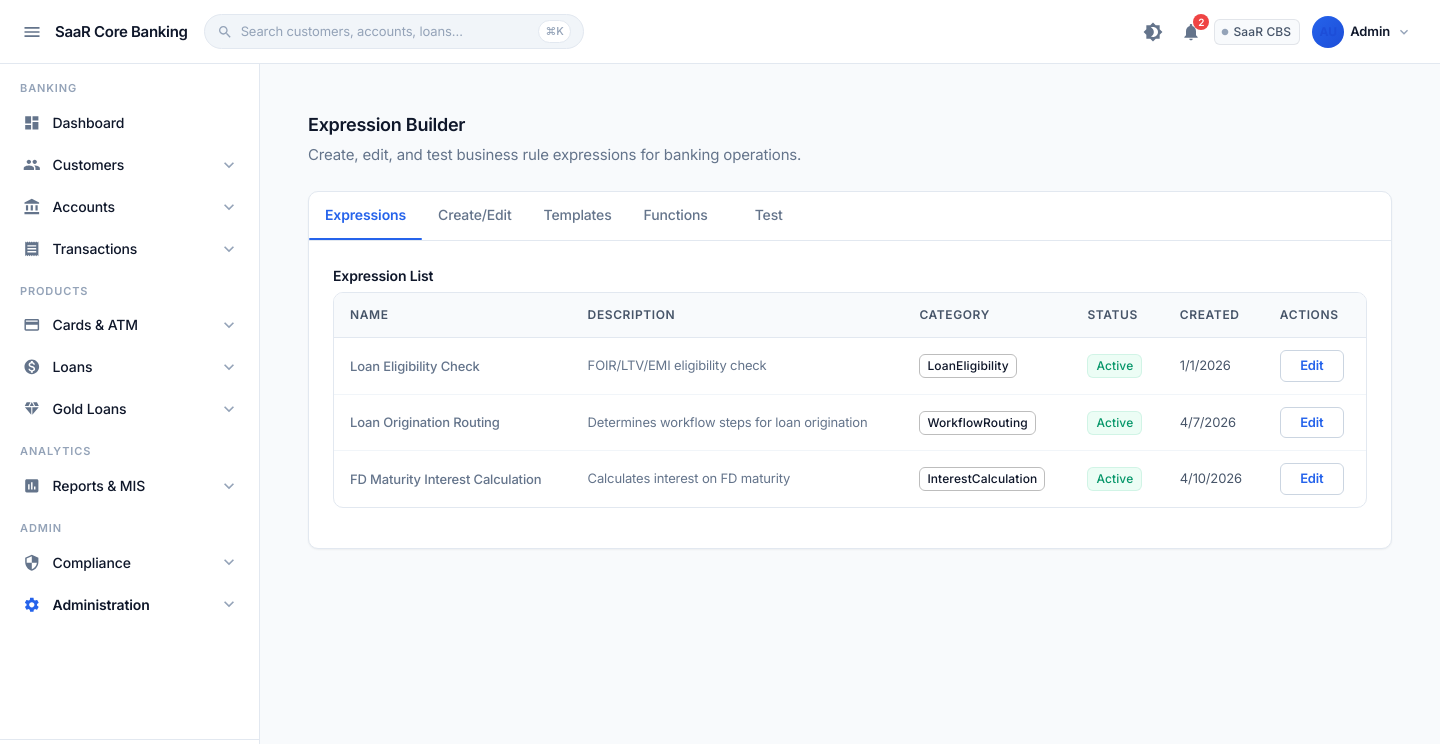
Test case: [REGRESSION] Expression Builder — Create Expression › create form has Name, Expression, and Category fields
Click the tab "Create/Edit": (475, 215) [422, 193, 528, 237]
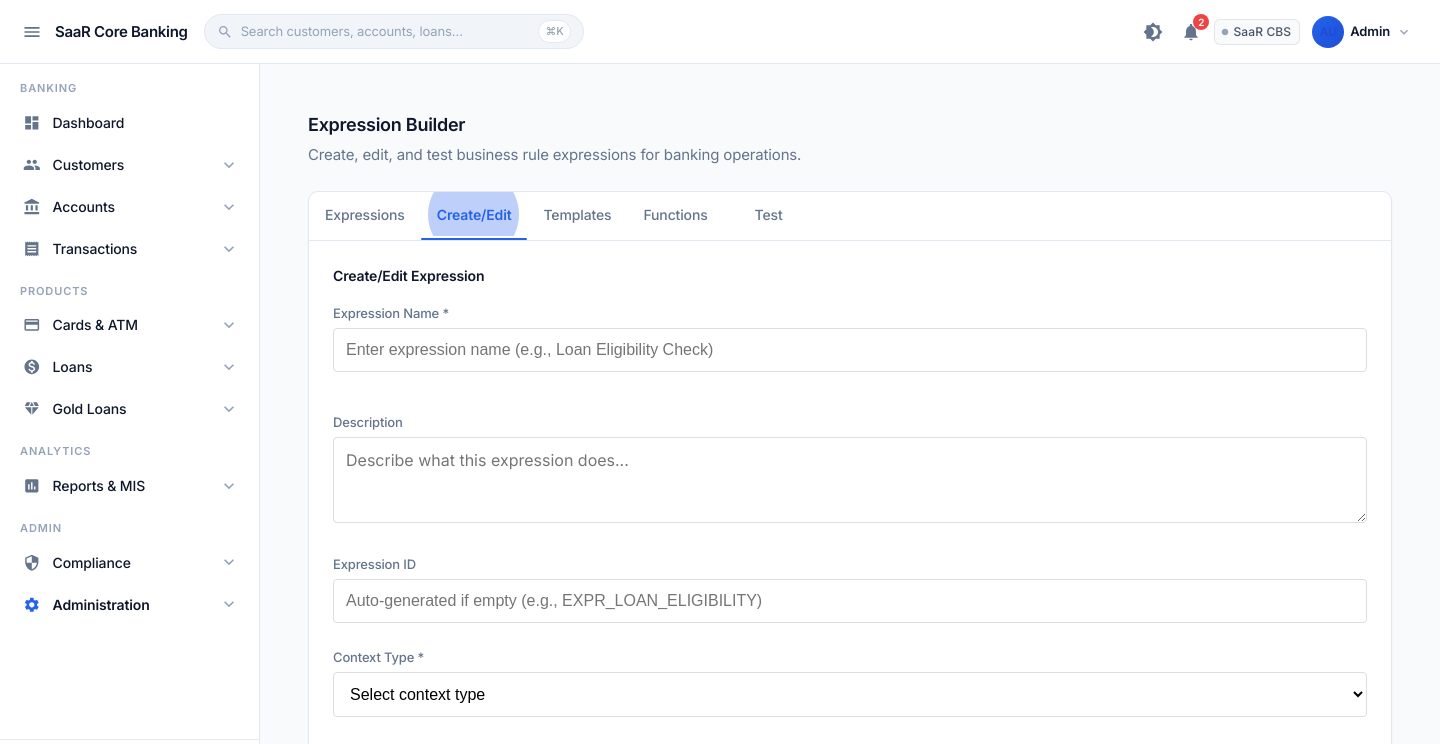
Expected: the heading "Expression Builder" is shown, [308, 114, 465, 135]
Result: the heading "Expression Name *" is shown at [333, 306, 449, 322]
